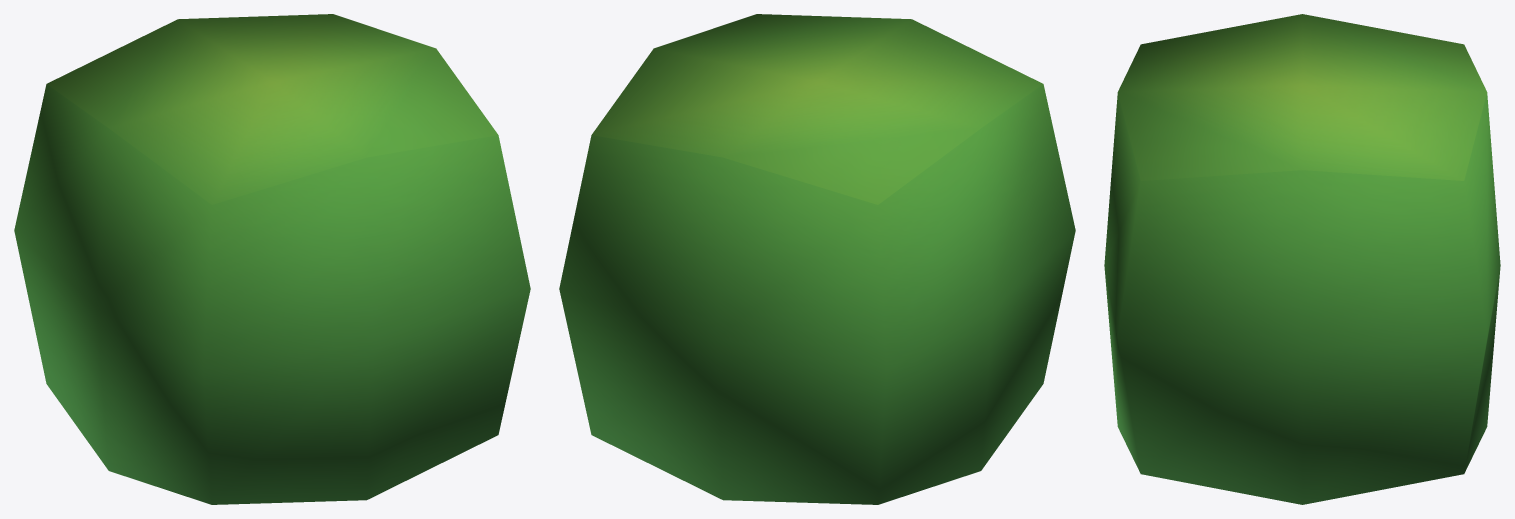
File: ball_small_green.fbx
3 views of the same model, side by side, from view 1: azimuth 30°, elevation 25°; view 2: azimuth 150°, elevation 25°; view 3: azimuth 270°, elevation 25° (orthographic). The views are drawn at different scales.
Parts seen in each view (by area): view 1: ball_small_green; view 2: ball_small_green; view 3: ball_small_green.
Boxes of the visible parts, bbox=[...] form: ball_small_green: bbox=[14, 14, 530, 504]; ball_small_green: bbox=[559, 14, 1075, 504]; ball_small_green: bbox=[1104, 14, 1500, 504].
Size of the model in its own units: 24.5 by 23.26 by 24.5.
1 material, 1 textured.
